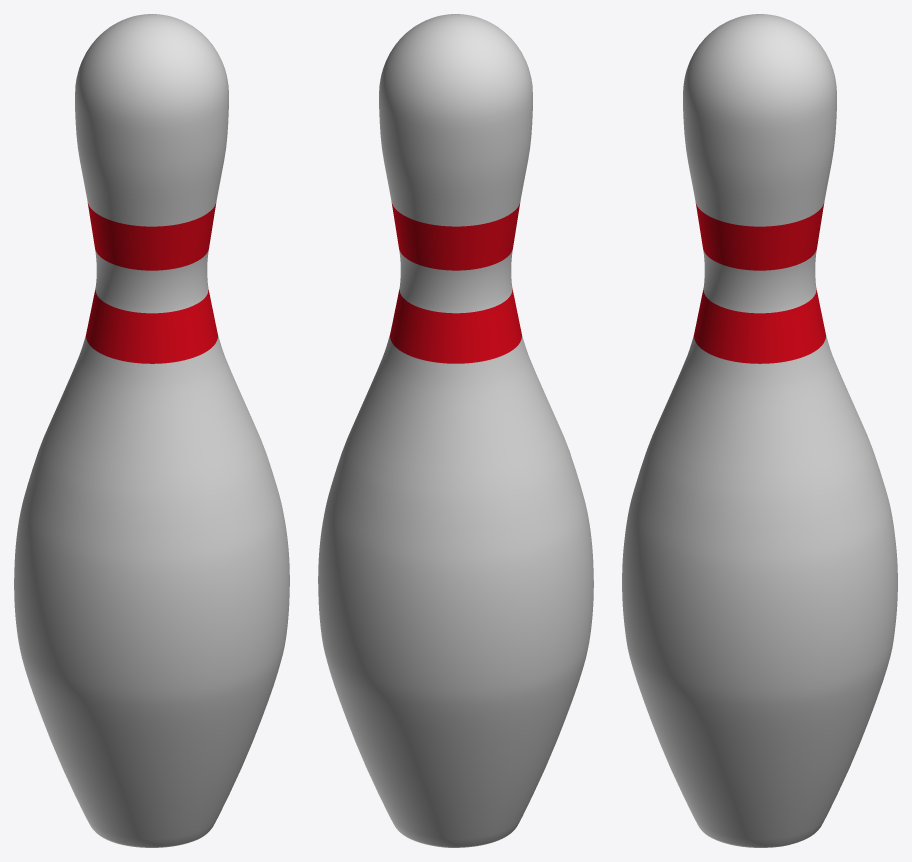
Rendered from bowling pin.fbx.
3 views of the same model, side by side, from view 1: azimuth 30°, elevation 25°; view 2: azimuth 150°, elevation 25°; view 3: azimuth 270°, elevation 25° (orthographic).
Parts seen in each view (by area): view 1: Bowling Pin.001; view 2: Bowling Pin.001; view 3: Bowling Pin.001.
Part boxes in pixels (x1,y1,x2,y2): Bowling Pin.001: (14, 14, 289, 847); Bowling Pin.001: (318, 14, 593, 847); Bowling Pin.001: (622, 14, 897, 847).
Bounding box in the file's own units: 60.61 × 195 × 60.61.
